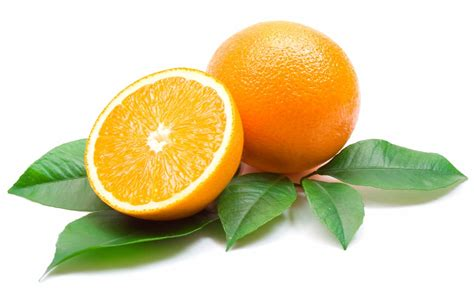orange: (207, 18, 361, 180)
